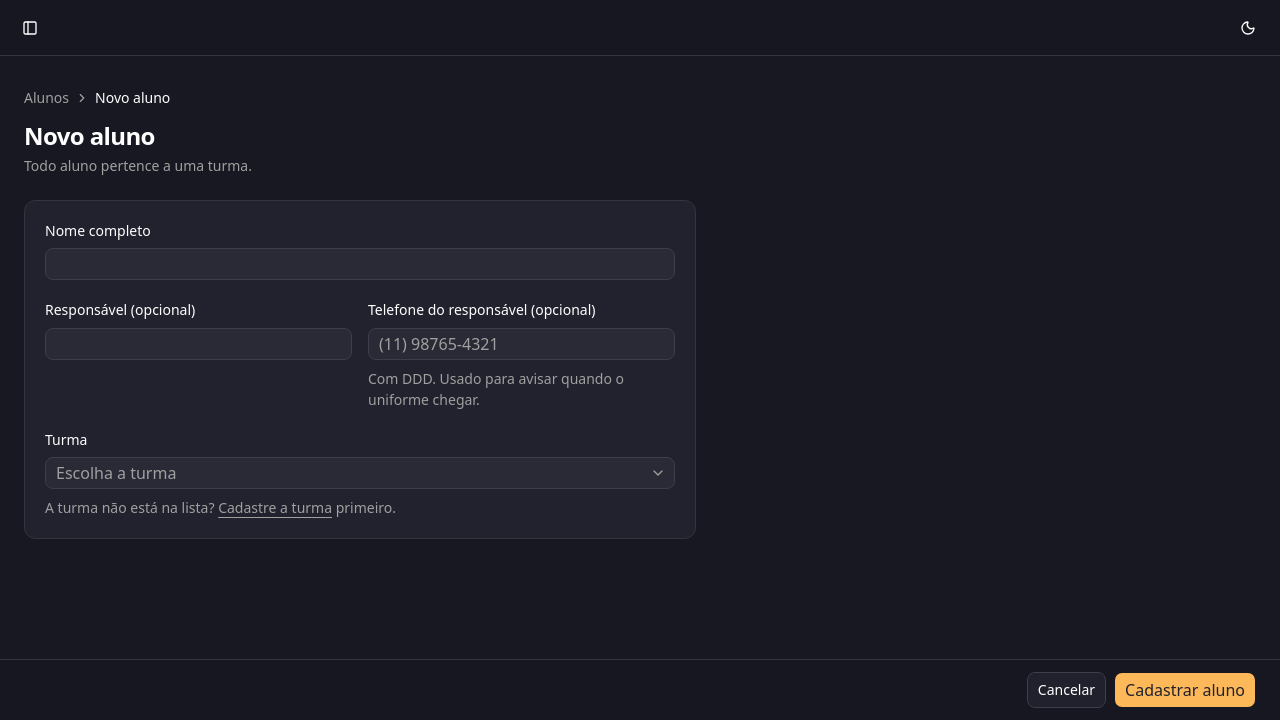
Test: AlunoFormPage › exige o nome antes de salvar
Click the button "Cadastrar aluno" at (1185, 690), box x1=1114 y1=672 x2=1256 y2=708
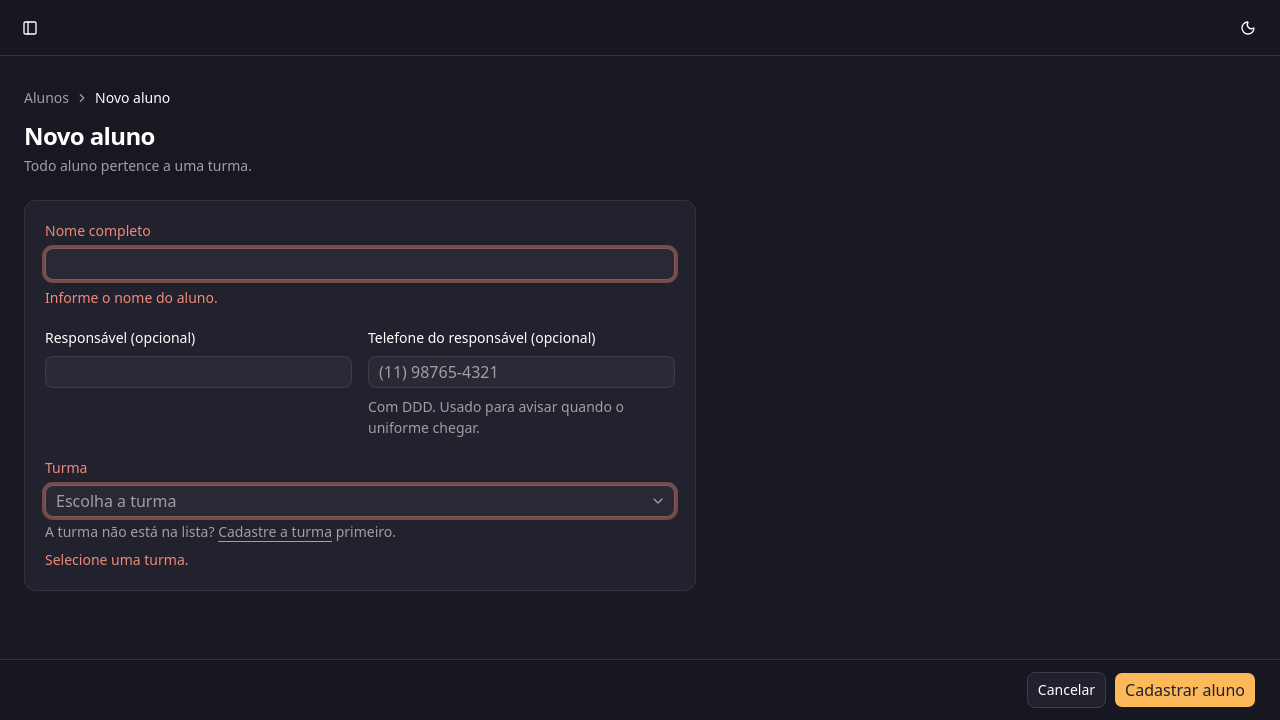
Check: the text "Informe o nome do aluno." is shown, box x1=45 y1=288 x2=218 y2=307
